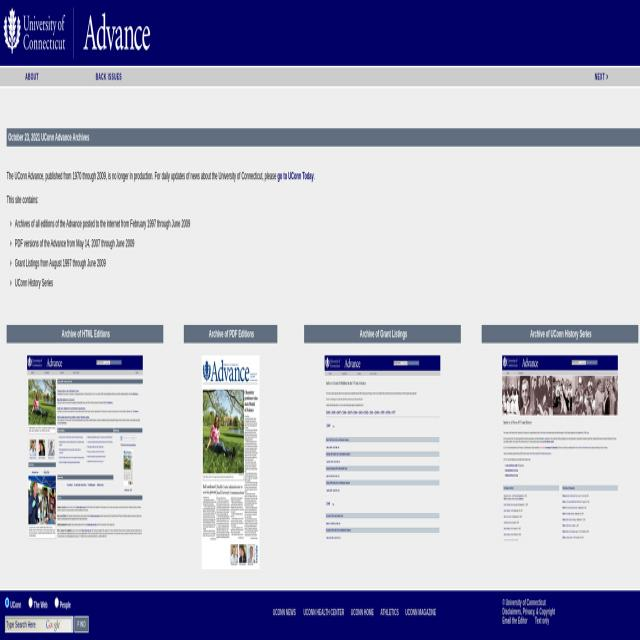button: (502, 355, 618, 544), (27, 355, 143, 540), (325, 355, 441, 540), (202, 355, 260, 570), (74, 0, 155, 65), (0, 0, 74, 65), (64, 68, 154, 86), (0, 68, 64, 86), (74, 616, 88, 632)
field: (5, 616, 73, 632), (28, 597, 48, 610), (54, 597, 71, 611), (5, 597, 21, 611)
